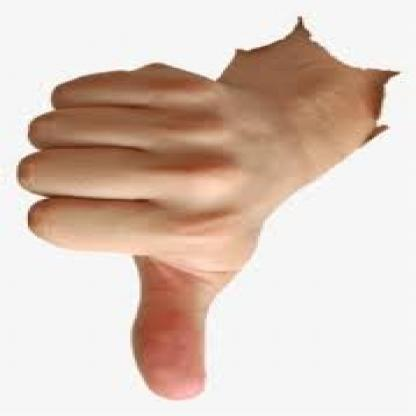thumb_down: (13, 62, 286, 404)
